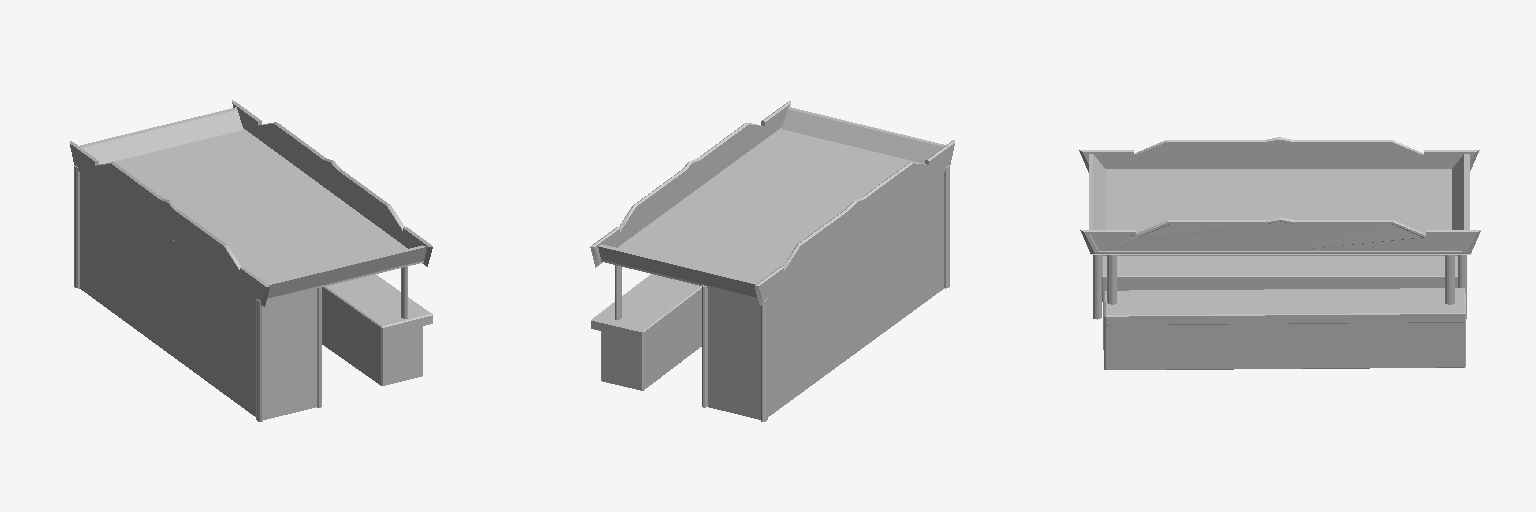
Rendered from PuestoGlobos.obj.
3 renders of one model, left to right at view 1: azimuth 30°, elevation 25°; view 2: azimuth 150°, elevation 25°; view 3: azimuth 270°, elevation 25°, orthographic.
Visible parts, largest first — view 1: Cube.001_Tex_CarnivalCounter_0_Puesto; view 2: Cube.001_Tex_CarnivalCounter_0_Puesto; view 3: Cube.001_Tex_CarnivalCounter_0_Puesto.
Part boxes in pixels (x1,y1,x2,y2): Cube.001_Tex_CarnivalCounter_0_Puesto: (70,100,432,421); Cube.001_Tex_CarnivalCounter_0_Puesto: (590,101,954,421); Cube.001_Tex_CarnivalCounter_0_Puesto: (1079,137,1480,369).
Bounding box in the file's own units: 1.98 × 1.62 × 3.84.